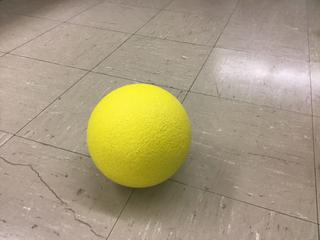power_cell: (80, 81, 188, 188)
